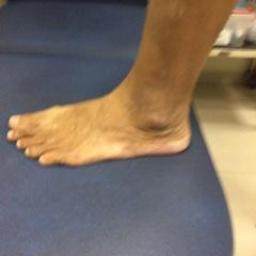Lateral View -Left Foot-: (3, 64, 205, 172)
